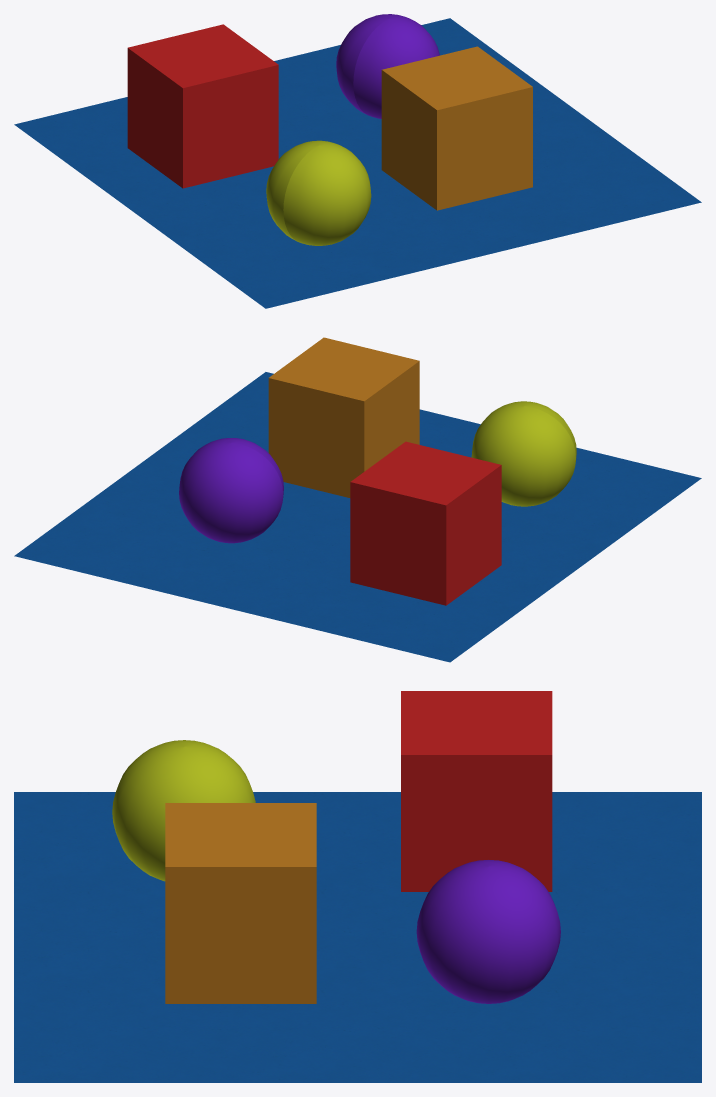
Rendered from obj_lightmaptest_lights.gltf.
The picture shows the model from 3 angles, top to bottom: view 1: azimuth 30°, elevation 25°; view 2: azimuth 150°, elevation 25°; view 3: azimuth 270°, elevation 25°; orthographic projection. The views are drawn at different scales.
Parts seen in each view (by area): view 1: obj_lightmaptest.001; view 2: obj_lightmaptest.001; view 3: obj_lightmaptest.001.
Part boxes in pixels (left/top/right/bottom): obj_lightmaptest.001: left=14, top=14, right=701, bottom=308; obj_lightmaptest.001: left=14, top=337, right=701, bottom=662; obj_lightmaptest.001: left=14, top=691, right=701, bottom=1082.
Bounding box in the file's own units: 4.55 × 1.09 × 4.55.
1 material, 1 textured.
